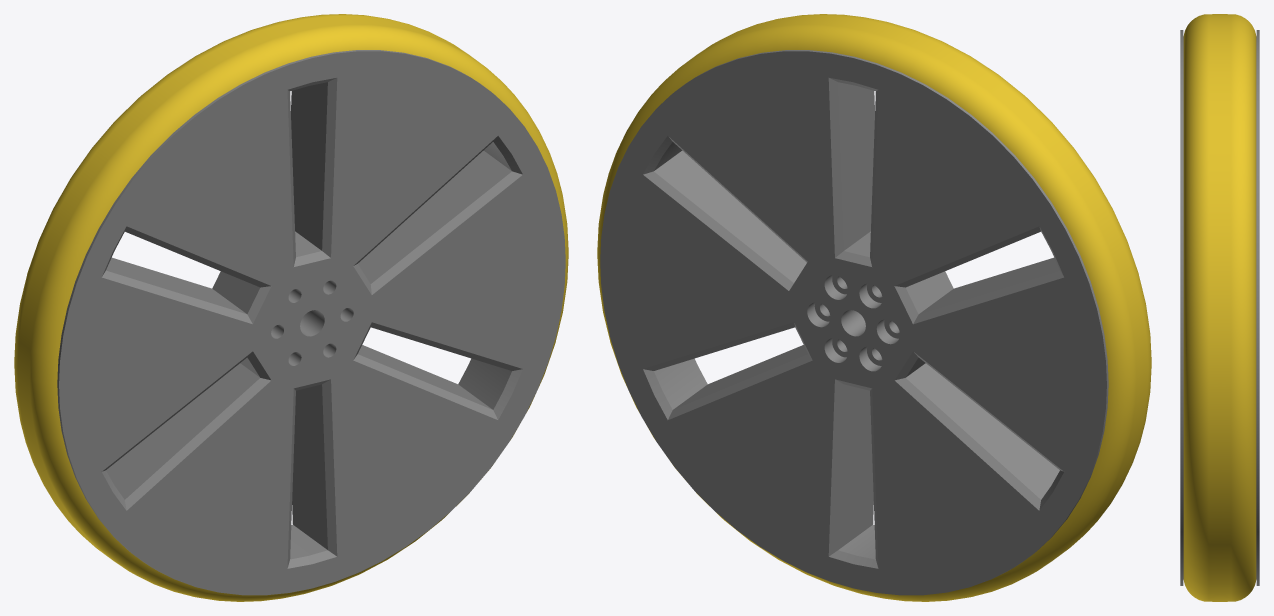
The model's file is wheel_v2.dae.
3 views of the same model, side by side, from view 1: azimuth 30°, elevation 25°; view 2: azimuth 150°, elevation 25°; view 3: azimuth 270°, elevation 25° (orthographic). The views are drawn at different scales.
Parts seen in each view (by area): view 1: Body1, Body1.001; view 2: Body1, Body1.001; view 3: Body1.001, Body1.
Part boxes in pixels (bbox=[...]): Body1: bbox=[57, 50, 565, 595]; Body1.001: bbox=[14, 14, 568, 601]; Body1: bbox=[600, 50, 1108, 595]; Body1.001: bbox=[597, 14, 1151, 601]; Body1.001: bbox=[1183, 14, 1256, 601]; Body1: bbox=[1180, 30, 1259, 585].
Size of the model in its own units: 0.185 by 0.025 by 0.185.
